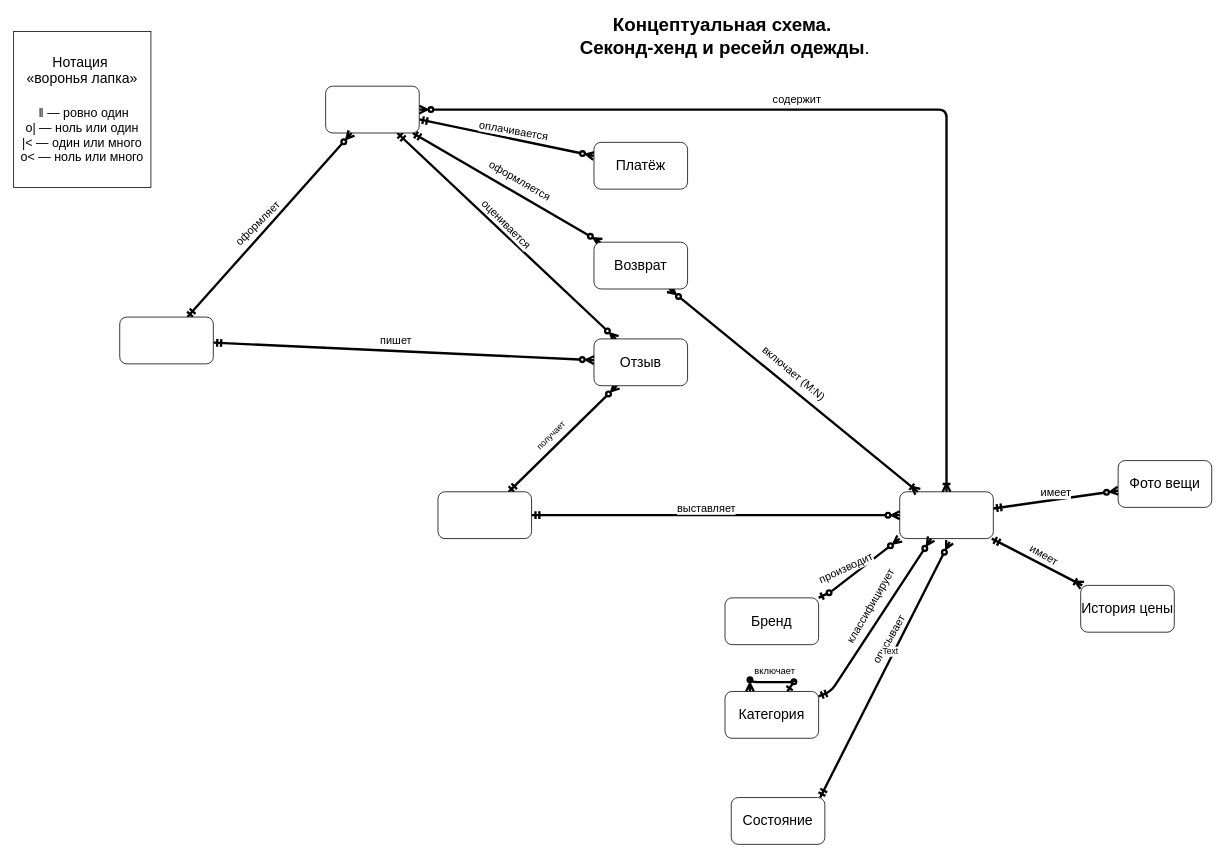
This 1225x858 diagram has some shape labels left out. The shapes that lost their labels are listed below. From the top down, each one's centre as x and y in pixels, then its label:
At [372,109]: "Заказ".
At [166,340]: "Покупатель".
At [484,515]: "Продавец".
At [946,515]: "Вещь".
